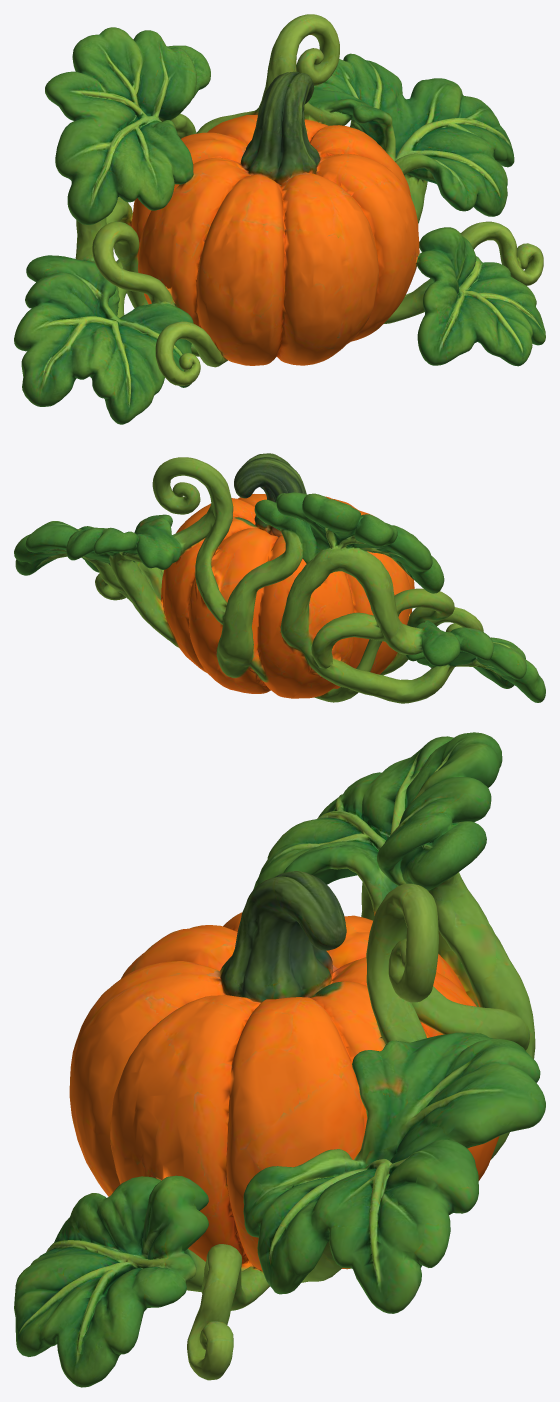
Rendered from pumpkin-mature.glb.
The picture shows the model from 3 angles, top to bottom: view 1: azimuth 30°, elevation 25°; view 2: azimuth 150°, elevation 25°; view 3: azimuth 270°, elevation 25°; orthographic projection. The views are drawn at different scales.
Size of the model in its own units: 1.9 by 0.9555 by 1.07.
Materials: 1 (1 with a texture image).
